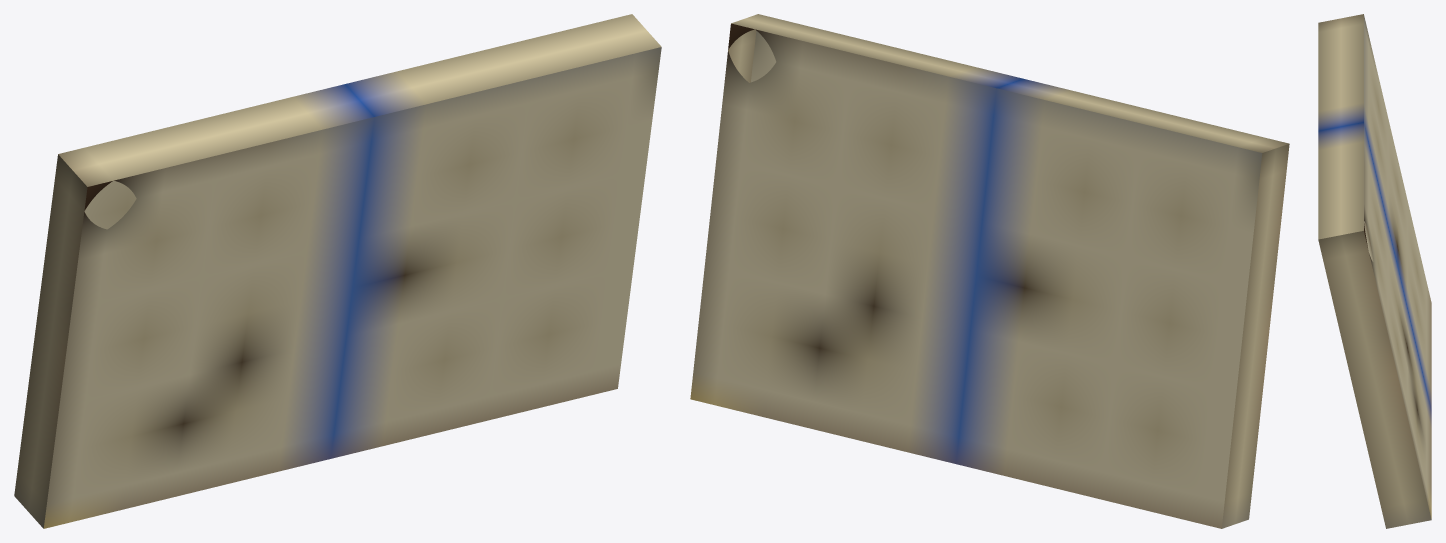
File: era1_card_deck_1_double_sided.obj
3 views of the same model, side by side, from view 1: azimuth 30°, elevation 25°; view 2: azimuth 150°, elevation 25°; view 3: azimuth 270°, elevation 25° (orthographic). The views are drawn at different scales.
Visible parts, largest first — view 1: era1_card_deck_1; view 2: era1_card_deck_1; view 3: era1_card_deck_1.
Boxes of the visible parts, x1,y1,x2,y2 form: era1_card_deck_1: (14, 14, 661, 528); era1_card_deck_1: (690, 14, 1289, 528); era1_card_deck_1: (1318, 14, 1431, 528).
Bounding box in the file's own units: 0.6875 × 0.4409 × 0.1521.
